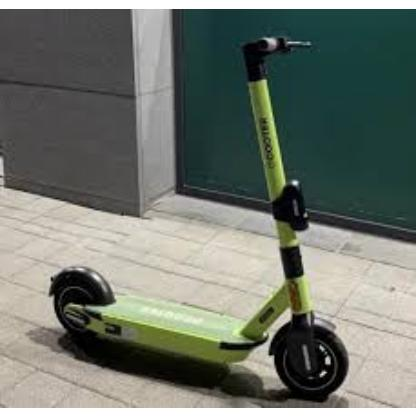bike: (47, 36, 353, 401)
